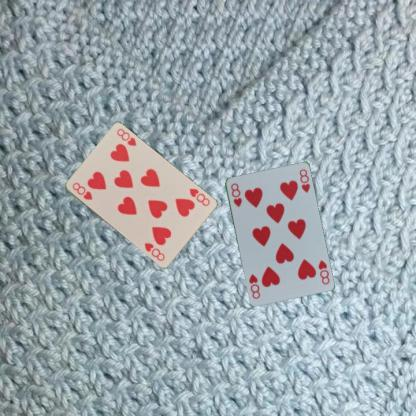8h: (187, 186, 211, 208), (69, 180, 94, 201), (316, 257, 330, 286), (228, 180, 242, 208)
